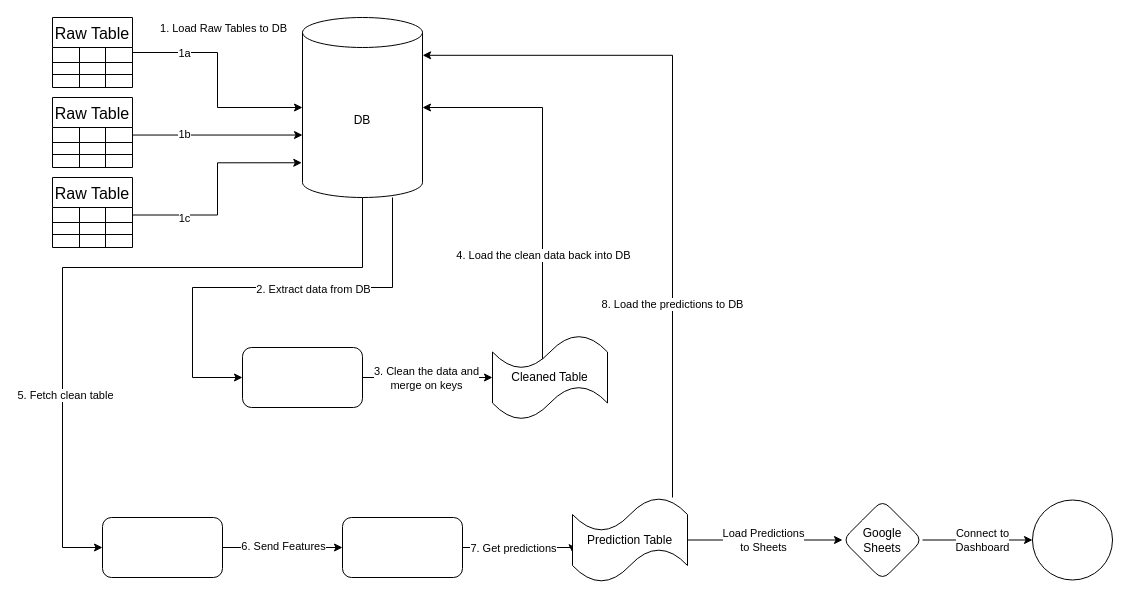
This 1130x600 diagram has some shape labels left out. Here are the shapes that lost their labels. From the top down, the centre of each, then its label:
At (302,377): "ETL Script".
At (162,547): "Feature Engineering".
At (402,547): "Model Script".
At (1072,539): "Data Studio".
